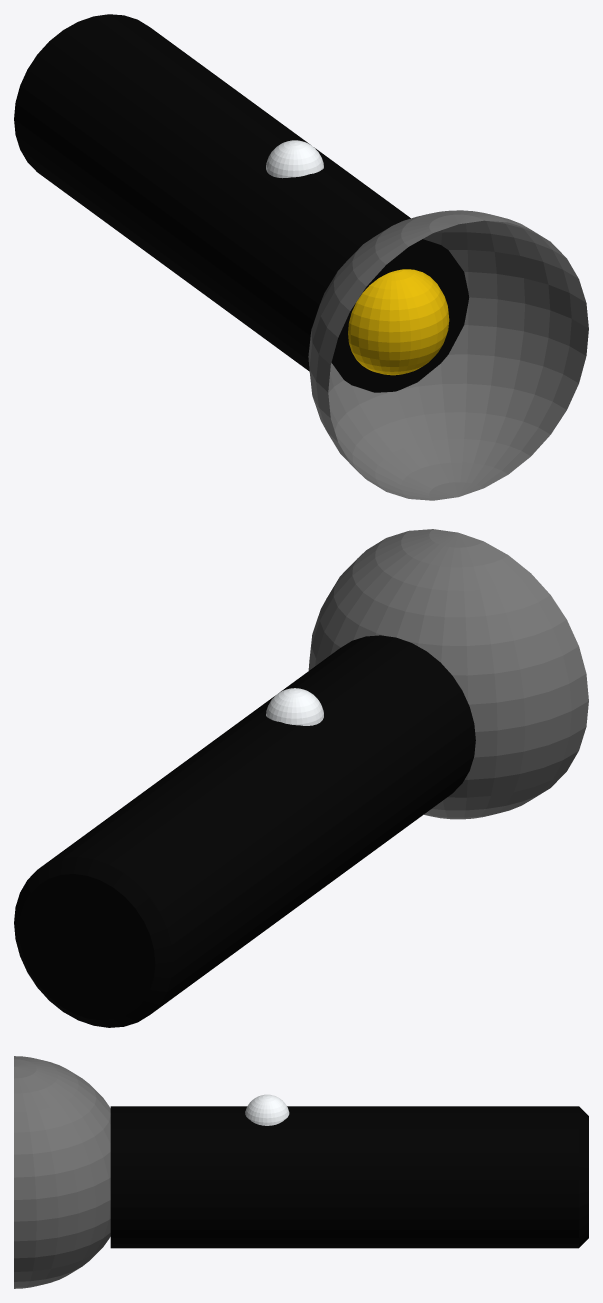
The model's file is FLASH LIGHT.fbx.
3 views of the same model, one above another, from view 1: azimuth 30°, elevation 25°; view 2: azimuth 150°, elevation 25°; view 3: azimuth 270°, elevation 25° (orthographic). The views are drawn at different scales.
Visible parts, largest first — view 1: Cylinder, Sphere, Sphere.002, Sphere.001; view 2: Cylinder, Sphere, Sphere.001; view 3: Cylinder, Sphere, Sphere.001.
Part boxes in pixels (box(x1,y1,x2,y2)): Cylinder: box(14, 14, 469, 392); Sphere: box(308, 210, 588, 500); Sphere.002: box(348, 269, 449, 375); Sphere.001: box(266, 140, 323, 178); Cylinder: box(14, 635, 475, 1027); Sphere: box(308, 529, 588, 819); Sphere.001: box(266, 688, 323, 725); Cylinder: box(110, 1106, 588, 1248); Sphere: box(14, 1056, 110, 1288); Sphere.001: box(245, 1094, 289, 1125).
Bounding box in the file's own units: 328 × 328 × 808.
